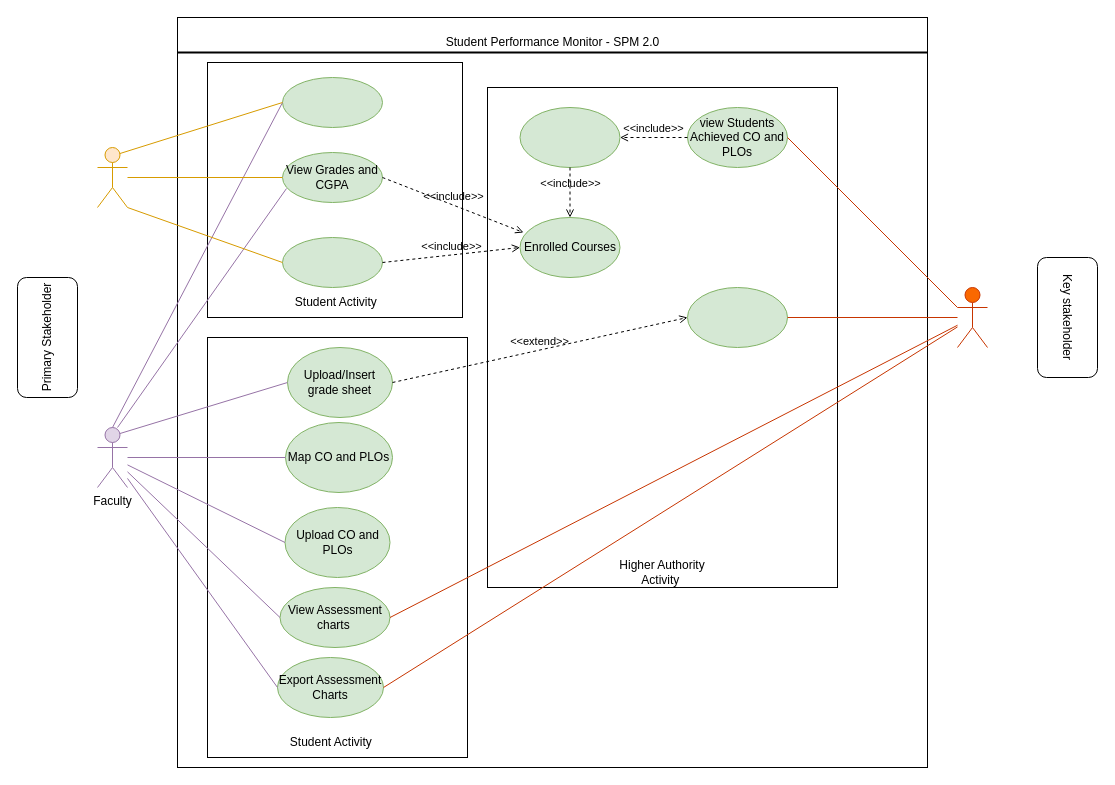
Some shapes in this 1115 by 785 pixel diagram are drawn without their labels. Each missing label, with the centre of its shape:
Enrolled Student: the point at 569,137
Higher Authority: the point at 972,317
Login Authentication: the point at 332,102
Student: the point at 112,177
View CLO and PLOs: the point at 332,262
View Grade sheet: the point at 737,317
